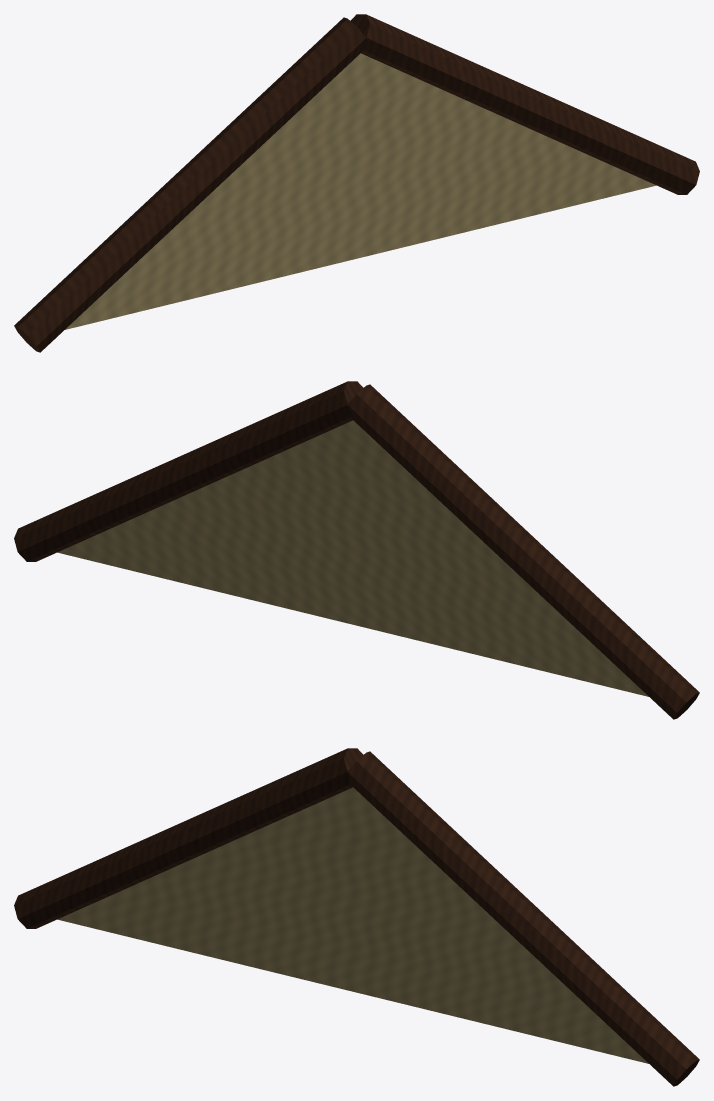
File: module_gable_2m.glb
3 renders of one model, top to bottom at view 1: azimuth 30°, elevation 25°; view 2: azimuth 150°, elevation 25°; view 3: azimuth 330°, elevation 25°, orthographic.
Visible parts, largest first — view 1: gable, gable_trim_l, gable_trim_r; view 2: gable, gable_trim_l, gable_trim_r; view 3: gable, gable_trim_r, gable_trim_l.
Boxes of the visible parts, x1,y1,x2,y2 form: gable: (65, 53, 656, 329); gable_trim_l: (14, 17, 366, 352); gable_trim_r: (350, 14, 699, 194); gable: (57, 420, 648, 696); gable_trim_l: (347, 384, 699, 719); gable_trim_r: (14, 381, 363, 561); gable: (57, 787, 648, 1063); gable_trim_r: (347, 751, 699, 1086); gable_trim_l: (14, 748, 363, 928).
Bounding box in the file's own units: 2.06 × 0.7435 × 0.1.
Materials: 2 (2 with a texture image).
